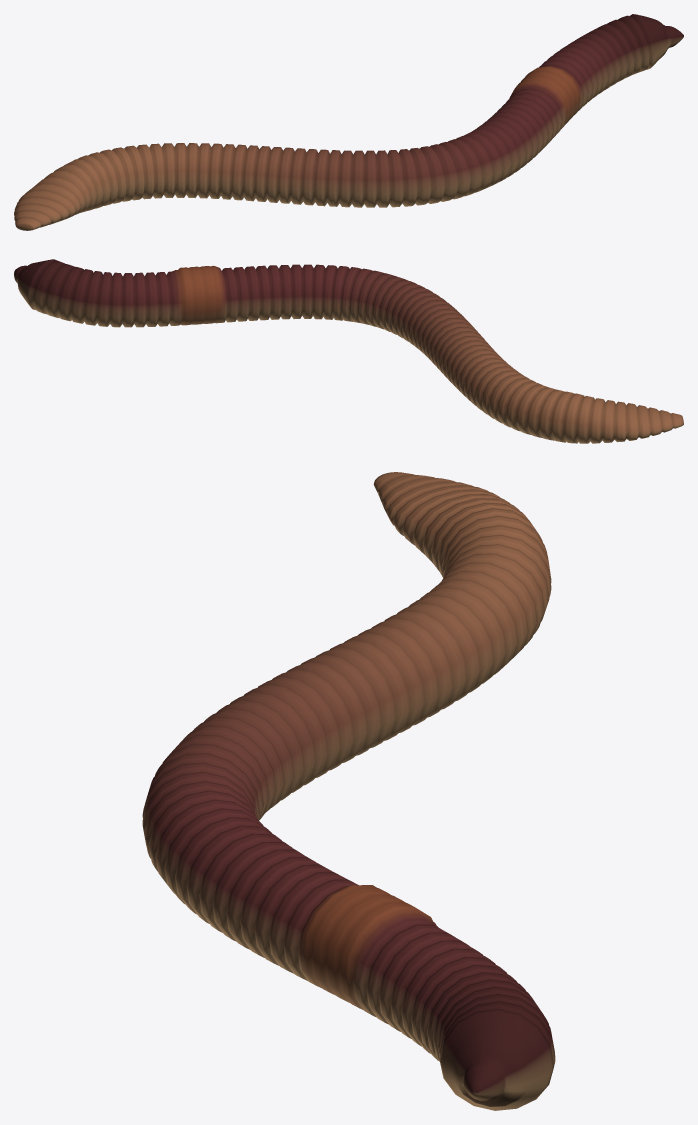
The model's file is earthworm-deep.glb.
The picture shows the model from 3 angles, top to bottom: view 1: azimuth 30°, elevation 25°; view 2: azimuth 150°, elevation 25°; view 3: azimuth 270°, elevation 25°; orthographic projection. The views are drawn at different scales.
Parts seen in each view (by area): view 1: earthworm-deep; view 2: earthworm-deep; view 3: earthworm-deep.
Part boxes in pixels (bbox=[...]): earthworm-deep: bbox=[14, 14, 683, 230]; earthworm-deep: bbox=[14, 259, 683, 443]; earthworm-deep: bbox=[142, 472, 555, 1110].
Bounding box in the file's own units: 0.8853 × 0.0708 × 0.2436.
